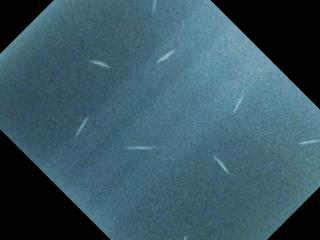scratch: (119, 139, 161, 157), (209, 151, 233, 177), (73, 112, 93, 139), (151, 48, 179, 67), (85, 55, 114, 72), (292, 136, 320, 148), (231, 91, 245, 114), (146, 0, 163, 17), (181, 231, 191, 240)
